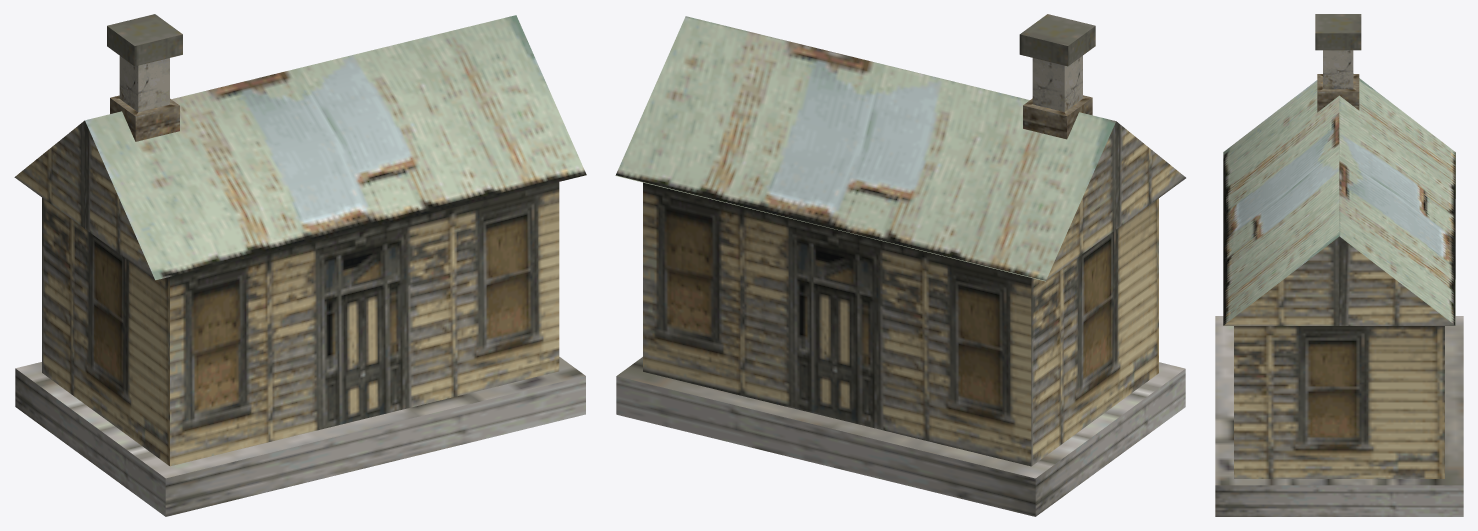
File: BrokenHouse.fbx
3 renders of one model, left to right at view 1: azimuth 30°, elevation 25°; view 2: azimuth 150°, elevation 25°; view 3: azimuth 270°, elevation 25°, orthographic. The views are drawn at different scales.
Visible parts, largest first — view 1: pCube5; view 2: pCube5; view 3: pCube5.
Boxes of the visible parts, box(x1,y1,x2,y2) form: pCube5: box(14, 14, 586, 516); pCube5: box(615, 14, 1185, 516); pCube5: box(1215, 14, 1463, 516).
Size of the model in its own units: 7.88 by 7.32 by 4.76.
